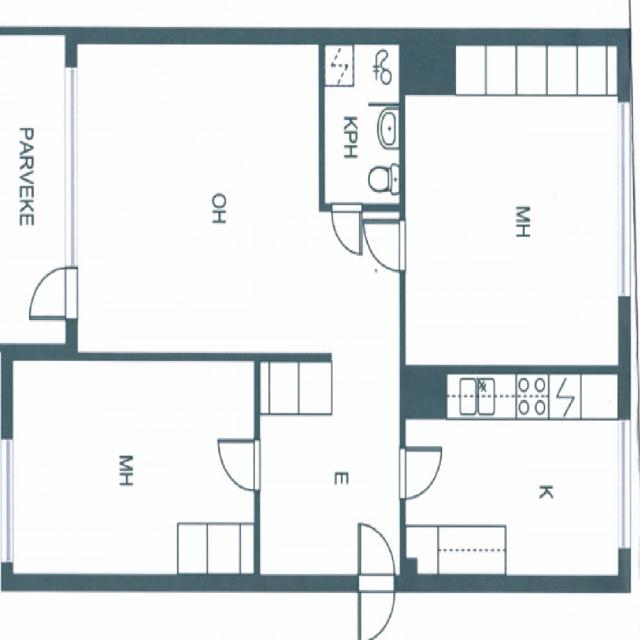door: (359, 527, 394, 593), (359, 575, 394, 640), (30, 268, 76, 317), (362, 220, 407, 270), (398, 448, 442, 498), (220, 440, 260, 489), (332, 202, 360, 252)
